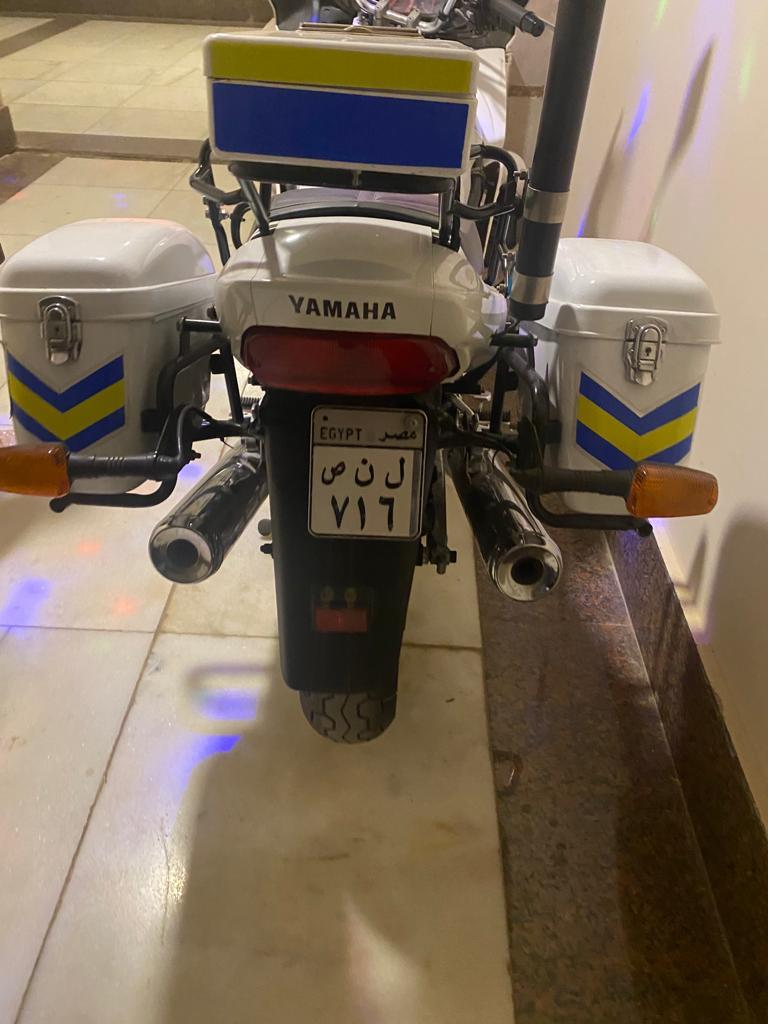License Plate: (303, 394, 428, 542)
